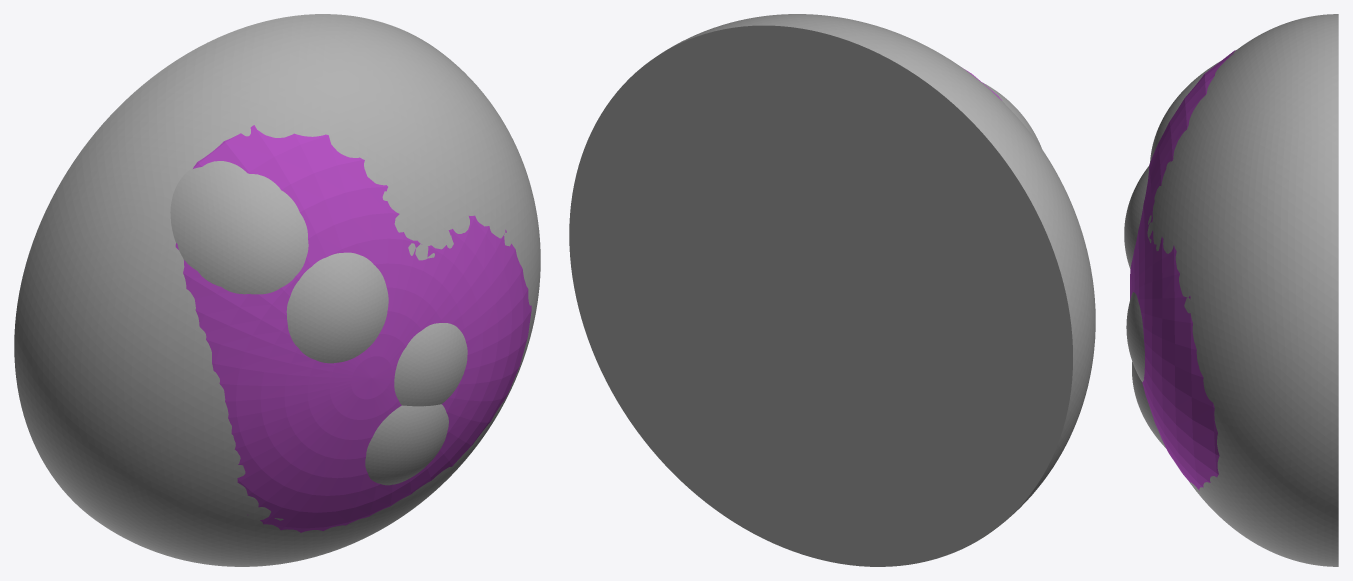
The model's file is G05_DEFORM_GROW_GT_ALIGNED.glb.
3 views of the same model, side by side, from view 1: azimuth 30°, elevation 25°; view 2: azimuth 150°, elevation 25°; view 3: azimuth 270°, elevation 25° (orthographic). The views are drawn at different scales.
Parts seen in each view (by area): view 1: GT, DEFORM_GROW_ALIGNED_EVALUATION_ONLY; view 2: GT; view 3: GT, DEFORM_GROW_ALIGNED_EVALUATION_ONLY.
Boxes of the visible parts, x1,y1,x2,y2 form: GT: (14,14,540,566); DEFORM_GROW_ALIGNED_EVALUATION_ONLY: (175,125,531,532); GT: (569,14,1095,566); GT: (1124,14,1338,566); DEFORM_GROW_ALIGNED_EVALUATION_ONLY: (1130,50,1235,490).
Bounding box in the file's own units: 0.018 × 0.018 × 0.00699.
